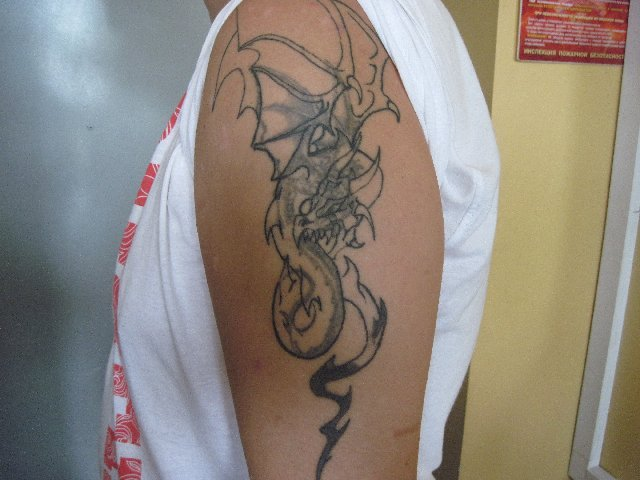tatu6_drakon: (213, 2, 414, 480)
